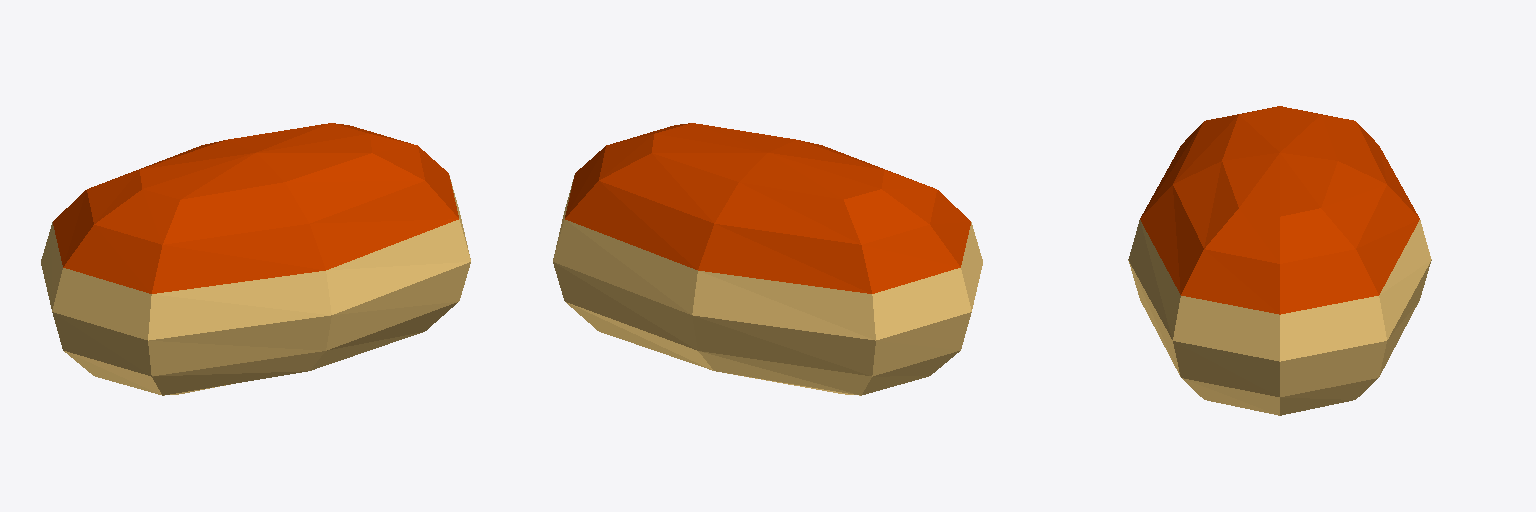
The model's file is kurimanju.obj.
3 renders of one model, left to right at view 1: azimuth 30°, elevation 25°; view 2: azimuth 150°, elevation 25°; view 3: azimuth 270°, elevation 25°, orthographic.
Parts seen in each view (by area): view 1: 球; view 2: 球; view 3: 球.
Boxes of the visible parts, <box> form: 球: <box>41,123,470,395</box>; 球: <box>553,123,982,395</box>; 球: <box>1128,106,1431,415</box>.
Size of the model in its own units: 3.1 by 1.5 by 2.